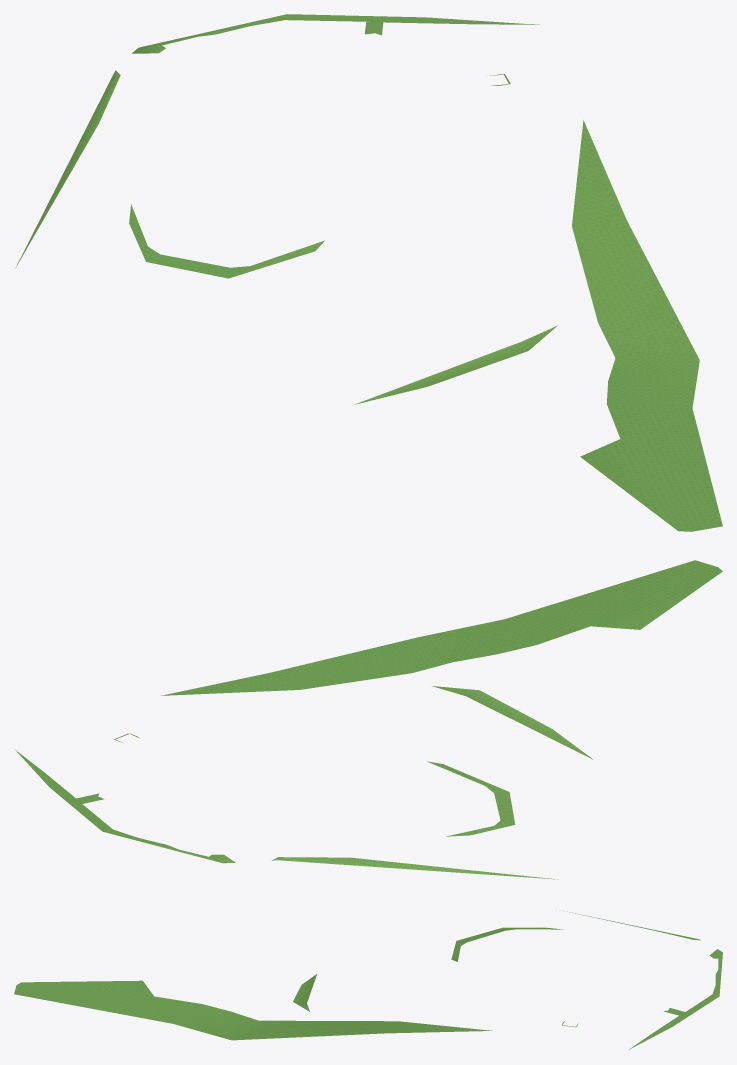
Rendered from kd_stage_136599_10_6.glb.
The picture shows the model from 3 angles, top to bottom: view 1: azimuth 30°, elevation 25°; view 2: azimuth 150°, elevation 25°; view 3: azimuth 270°, elevation 25°; orthographic projection. The views are drawn at different scales.
Parts seen in each view (by area): view 1: kd_stage_136599_10_6; view 2: kd_stage_136599_10_6; view 3: kd_stage_136599_10_6.
Part boxes in pixels (bbox=[...]): kd_stage_136599_10_6: bbox=[15, 14, 722, 531]; kd_stage_136599_10_6: bbox=[14, 560, 722, 879]; kd_stage_136599_10_6: bbox=[14, 911, 722, 1049].
Size of the model in its own units: 125 by 18.27 by 211.
1 material, 1 textured.
